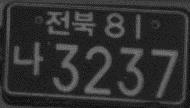1: (133, 12, 142, 41)
2: (83, 44, 112, 96)
3: (52, 42, 80, 92), (117, 46, 144, 97)
7: (150, 48, 179, 99)
8: (104, 12, 124, 38)
나: (11, 40, 44, 77)
전북_O: (45, 8, 96, 37)
